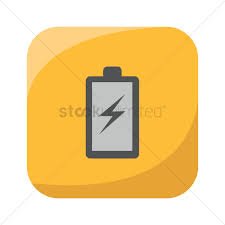charging sign: (76, 53, 154, 169)
